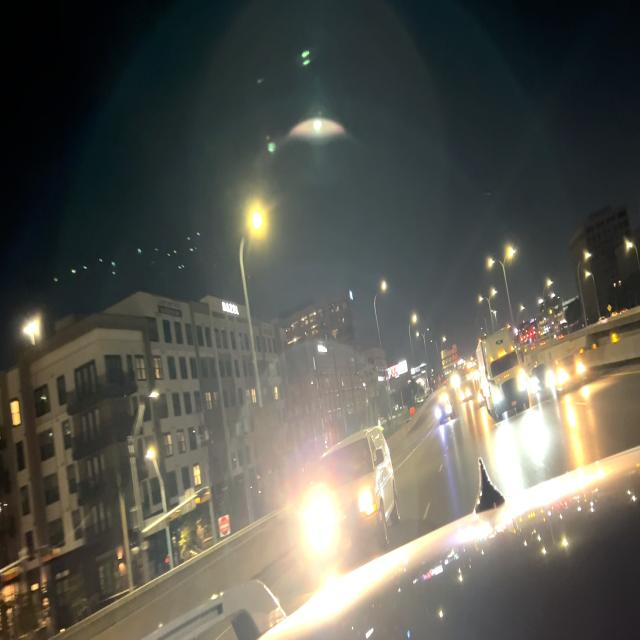back-of-sign: (439, 340, 459, 376)
